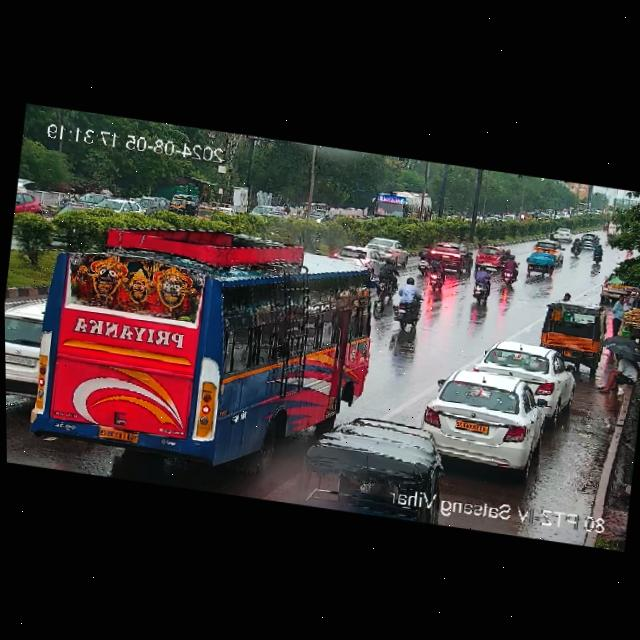bus: (3, 198, 382, 492), (366, 186, 430, 220)
car: (426, 364, 543, 471), (306, 413, 443, 488), (487, 338, 573, 413), (536, 299, 610, 364), (4, 294, 47, 399), (518, 244, 559, 281), (170, 190, 198, 214), (555, 223, 575, 241), (578, 229, 599, 246)
motorcycle: (391, 276, 423, 332), (376, 255, 401, 301), (427, 254, 448, 296), (471, 266, 492, 305), (501, 251, 519, 284), (415, 242, 433, 274), (569, 235, 585, 258), (591, 243, 604, 263), (500, 246, 513, 262), (547, 230, 558, 241)
